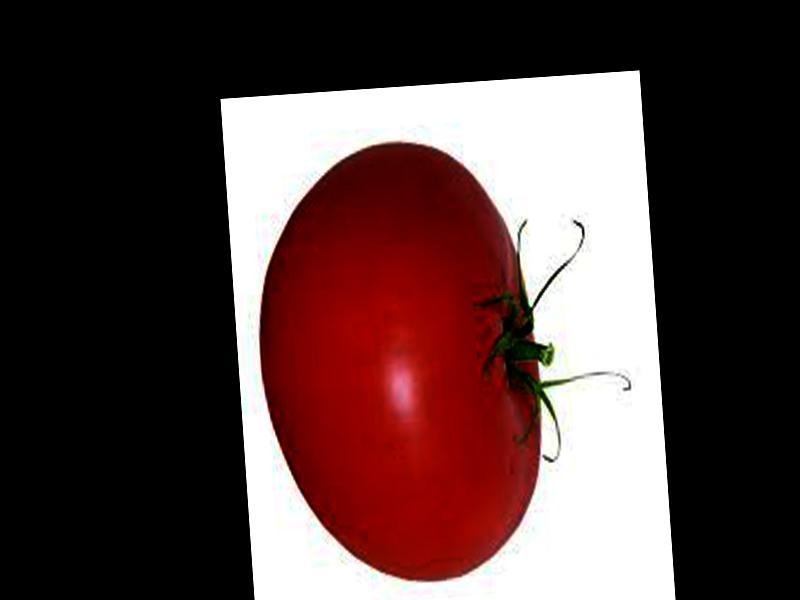Tomato: (248, 135, 554, 594)
